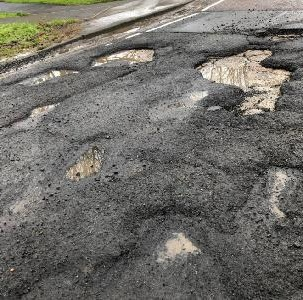pothole: (189, 43, 297, 117), (258, 157, 301, 221), (89, 43, 157, 68), (62, 145, 105, 183), (16, 63, 80, 86), (253, 24, 302, 40)
